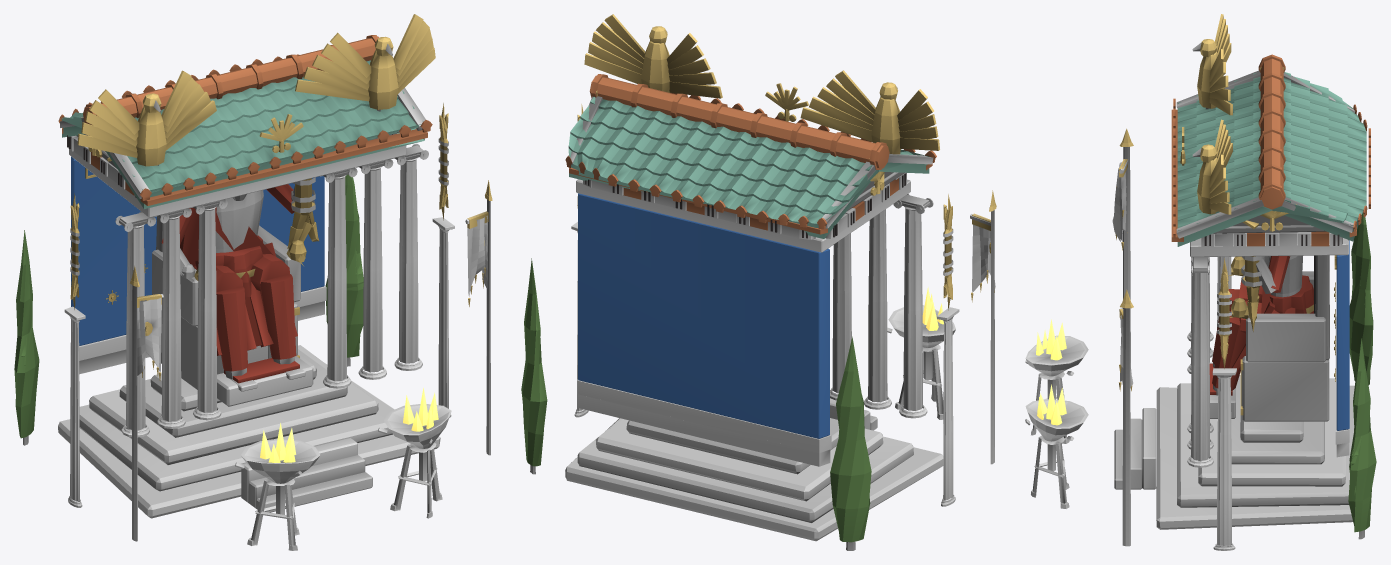
Rendered from throne-of-zeus-l3.glb.
3 views of the same model, side by side, from view 1: azimuth 30°, elevation 25°; view 2: azimuth 150°, elevation 25°; view 3: azimuth 270°, elevation 25° (orthographic). The views are drawn at different scales.
Parts seen in each view (by area): view 1: throne-of-zeus-l3; view 2: throne-of-zeus-l3; view 3: throne-of-zeus-l3.
Part boxes in pixels (box(x1,y1,x2,y2)): throne-of-zeus-l3: box(14, 14, 492, 550); throne-of-zeus-l3: box(521, 14, 996, 550); throne-of-zeus-l3: box(1025, 14, 1376, 550).
Bounding box in the file's own units: 1.54 × 1.59 × 1.32.
